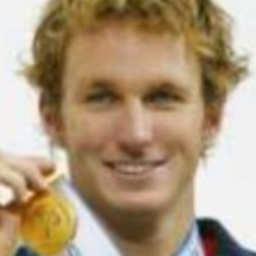Person: (17, 2, 246, 256)
